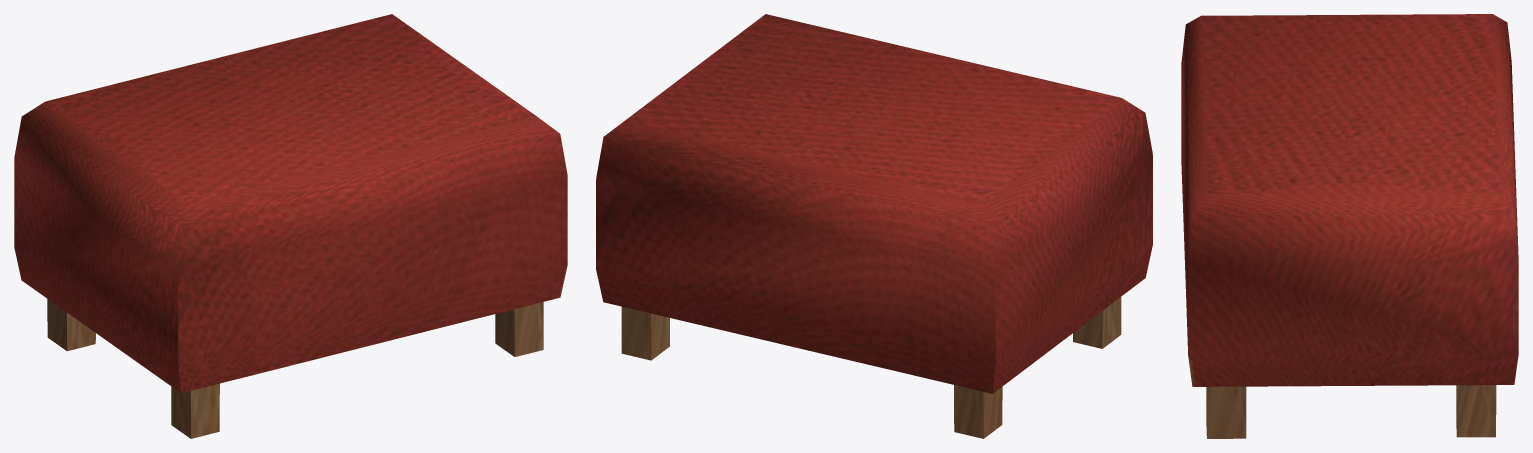
File: Footrest_vi.fbx
The picture shows the model from 3 angles, left to right: view 1: azimuth 30°, elevation 25°; view 2: azimuth 150°, elevation 25°; view 3: azimuth 270°, elevation 25°; orthographic projection. The views are drawn at different scales.
Parts seen in each view (by area): view 1: Footrest; view 2: Footrest; view 3: Footrest.
Boxes of the visible parts, x1,y1,x2,y2 form: Footrest: (14,14,567,438); Footrest: (596,14,1152,438); Footrest: (1181,14,1518,438).
Bounding box in the file's own units: 0.00562 × 0.00318 × 0.004.
Materials: 1 (1 with a texture image).
